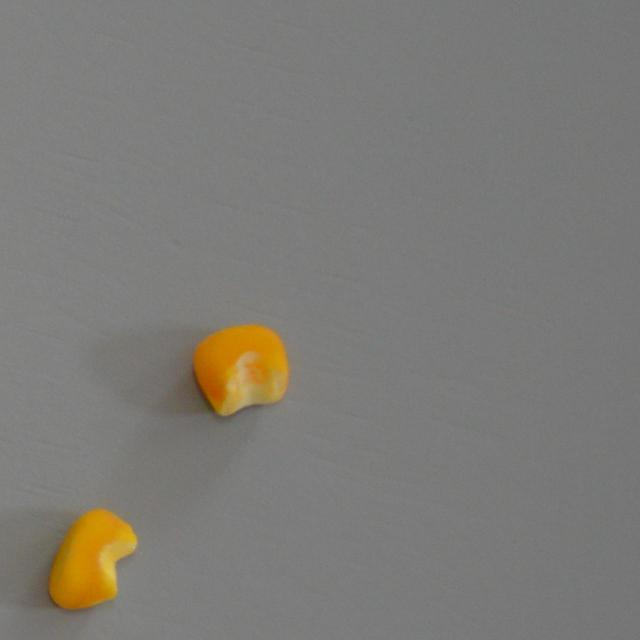no_canjicado: (44, 507, 134, 614), (190, 322, 288, 416)
